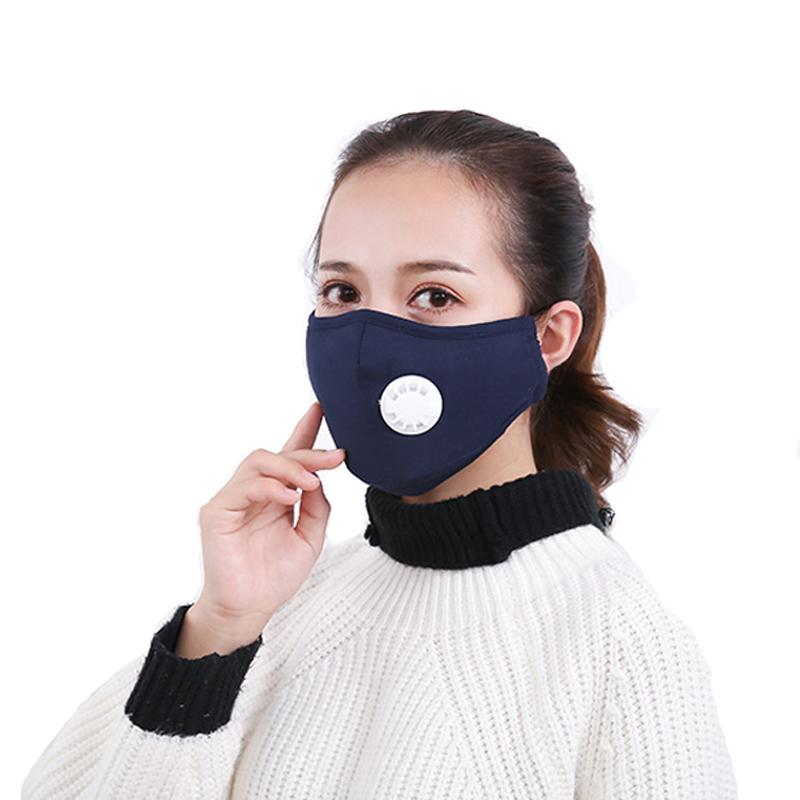Wearing Mask: (206, 113, 649, 545)
